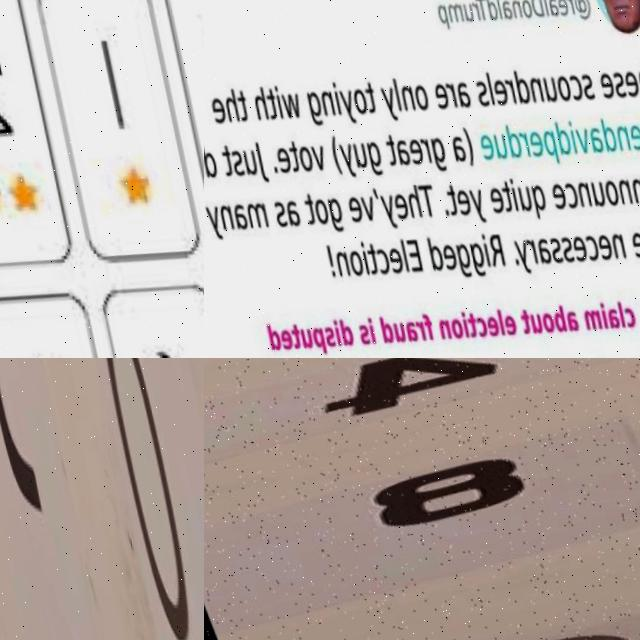0: (79, 358, 198, 640), (390, 583, 640, 640)
1: (94, 30, 125, 133)
2: (0, 36, 15, 142), (584, 350, 600, 358)
4: (250, 358, 541, 450)
5: (0, 358, 47, 526)
6: (137, 335, 201, 358)
8: (323, 423, 570, 553)
A: (224, 198, 242, 228), (450, 74, 467, 105), (529, 230, 546, 261), (583, 117, 600, 146), (278, 195, 295, 224), (388, 134, 405, 162), (446, 128, 461, 157), (596, 298, 613, 323), (555, 300, 572, 325), (394, 315, 410, 339), (496, 0, 511, 15), (545, 0, 556, 10)
B: (543, 297, 558, 326)
C: (563, 64, 580, 95), (557, 174, 574, 202), (576, 226, 593, 254), (367, 242, 384, 270), (615, 298, 628, 320), (468, 309, 479, 332)
D: (499, 115, 518, 153), (548, 111, 567, 148), (594, 109, 613, 144), (417, 229, 436, 264), (509, 61, 527, 96), (369, 308, 385, 340), (330, 312, 345, 342), (257, 319, 272, 348), (204, 138, 212, 175), (481, 0, 495, 14), (525, 0, 542, 9)
E: (397, 232, 416, 266), (621, 114, 640, 143), (543, 175, 562, 204), (588, 225, 607, 254), (594, 62, 611, 93), (380, 240, 397, 271), (428, 74, 445, 104), (623, 221, 640, 251), (619, 61, 636, 90), (488, 70, 505, 99), (205, 93, 222, 122), (523, 122, 540, 151), (473, 126, 490, 155), (386, 186, 403, 215), (564, 227, 581, 256), (401, 132, 418, 160), (269, 142, 286, 170), (481, 180, 498, 208), (449, 183, 466, 211), (340, 191, 357, 219), (434, 237, 450, 266), (269, 323, 286, 348), (476, 308, 492, 331), (495, 306, 509, 331), (553, 0, 566, 10)
F: (413, 306, 426, 337)
G: (301, 85, 320, 123), (425, 129, 444, 167), (319, 191, 338, 229), (360, 133, 379, 171), (461, 235, 479, 270), (447, 236, 465, 271)
H: (398, 176, 416, 214), (216, 84, 235, 119), (246, 81, 265, 115), (630, 50, 640, 88)
I: (269, 80, 279, 117), (503, 171, 513, 205), (352, 236, 362, 270), (563, 110, 572, 147), (327, 74, 336, 110), (474, 226, 483, 261), (591, 294, 600, 323), (452, 304, 460, 331), (358, 313, 366, 340), (324, 315, 332, 341)
J: (248, 136, 264, 180), (623, 348, 635, 358)
L: (392, 232, 402, 265), (481, 64, 490, 97), (388, 72, 397, 105), (609, 292, 617, 319), (488, 301, 496, 328), (492, 0, 500, 12), (539, 0, 547, 8)
M: (238, 198, 261, 227), (575, 302, 594, 323), (443, 0, 461, 17)
N: (524, 68, 541, 96), (609, 115, 626, 143), (611, 170, 628, 198), (211, 201, 228, 229), (603, 224, 619, 253), (395, 79, 411, 107), (624, 169, 640, 197), (570, 172, 586, 200), (316, 85, 331, 113), (327, 246, 342, 273), (430, 312, 443, 335), (507, 0, 518, 12)
O: (409, 77, 426, 106), (340, 244, 357, 273), (551, 66, 568, 94), (347, 83, 364, 111), (292, 140, 309, 168), (597, 171, 614, 199), (306, 194, 323, 221), (440, 310, 456, 333), (532, 305, 547, 328), (517, 0, 529, 12)
P: (537, 123, 555, 156), (302, 322, 317, 353), (433, 0, 446, 24)
Q: (524, 176, 543, 214)
R: (479, 226, 497, 260), (500, 71, 513, 99), (512, 122, 525, 150), (518, 231, 531, 259), (440, 76, 453, 103), (414, 132, 426, 157), (406, 313, 417, 335), (635, 221, 640, 249), (468, 0, 477, 15), (562, 0, 572, 9)
S: (575, 62, 592, 93), (552, 227, 569, 256), (541, 228, 558, 257), (223, 145, 240, 174), (265, 197, 282, 225), (608, 61, 623, 90), (471, 73, 486, 101), (347, 317, 362, 342), (313, 320, 328, 345), (630, 297, 640, 319), (635, 113, 640, 141)
T: (411, 176, 431, 214), (358, 75, 373, 110), (229, 85, 245, 117), (213, 140, 228, 173), (281, 134, 295, 169), (259, 85, 274, 117), (493, 174, 508, 206), (378, 127, 392, 161), (357, 236, 371, 270), (438, 178, 452, 211), (296, 189, 310, 222), (456, 304, 469, 333), (281, 318, 294, 346), (510, 301, 523, 328), (471, 0, 487, 14)
U: (235, 144, 252, 173), (538, 68, 555, 96), (347, 136, 364, 164), (583, 172, 600, 199), (510, 179, 527, 205), (489, 126, 503, 153), (289, 323, 305, 346), (383, 317, 398, 339), (521, 306, 535, 329), (459, 0, 470, 16)
V: (569, 119, 586, 147), (353, 190, 370, 218), (305, 140, 321, 167)
W: (275, 87, 299, 116)
Y: (332, 136, 351, 174), (462, 181, 481, 219), (373, 188, 392, 226), (375, 80, 393, 118), (506, 232, 525, 268), (334, 84, 352, 119), (204, 201, 215, 239)
